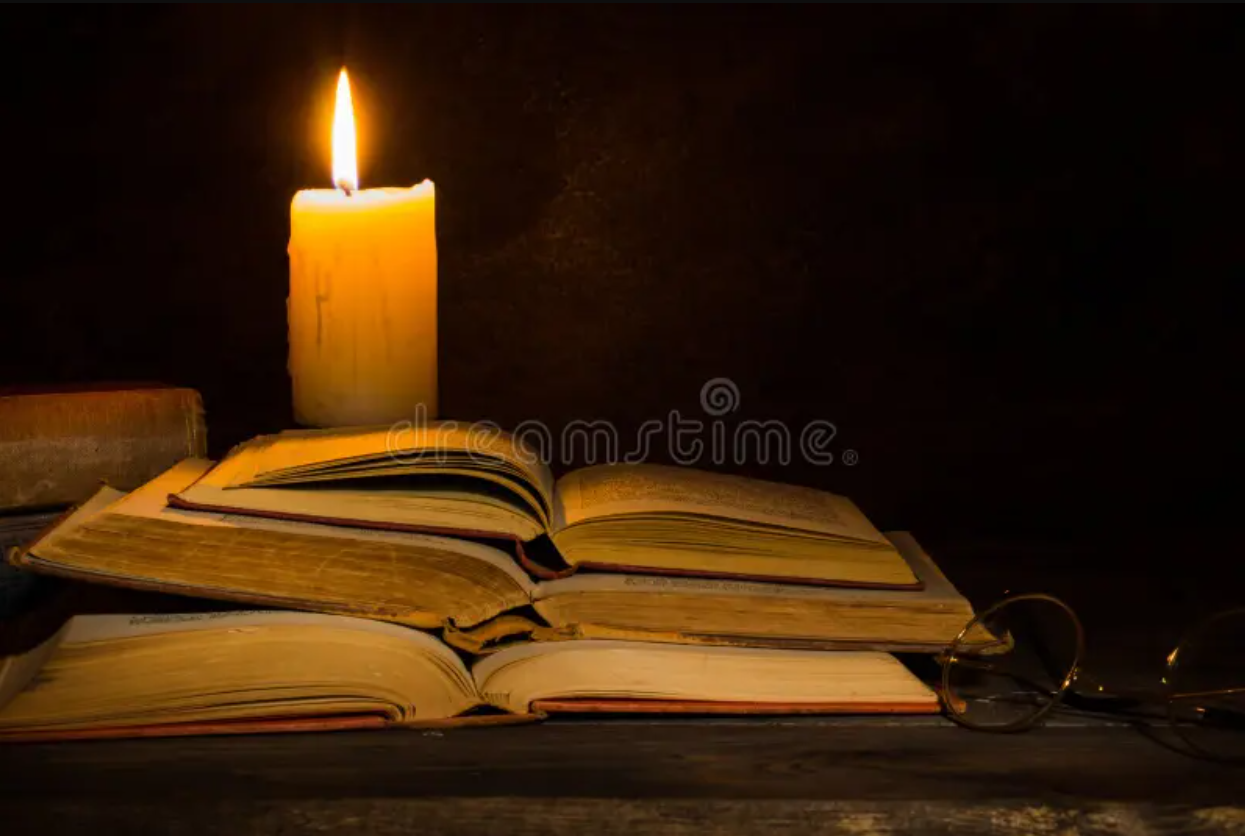book: (41, 486, 994, 653), (185, 428, 909, 580), (7, 624, 953, 732)
